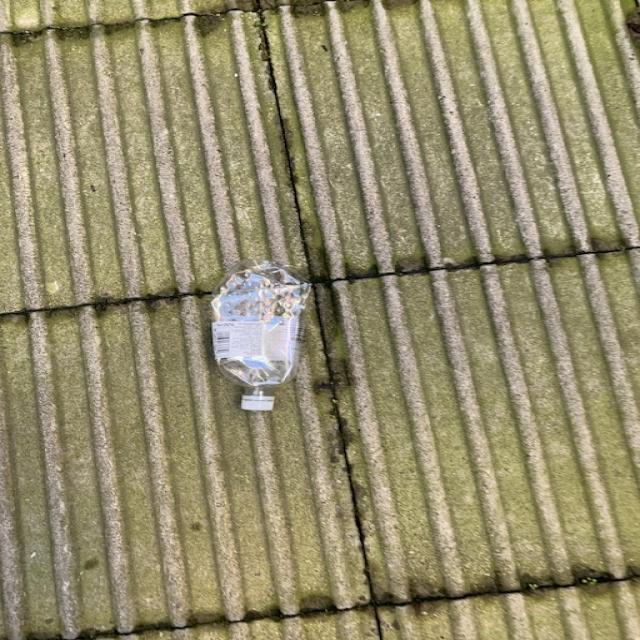Plastic: (212, 260, 311, 411)
